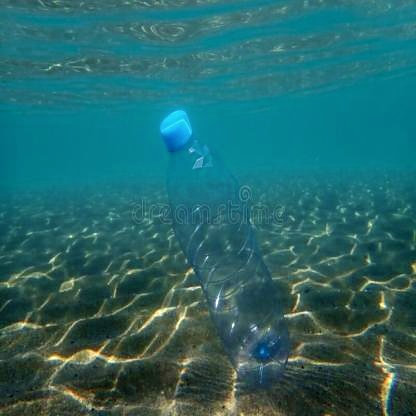pbottle: (146, 100, 305, 394)
